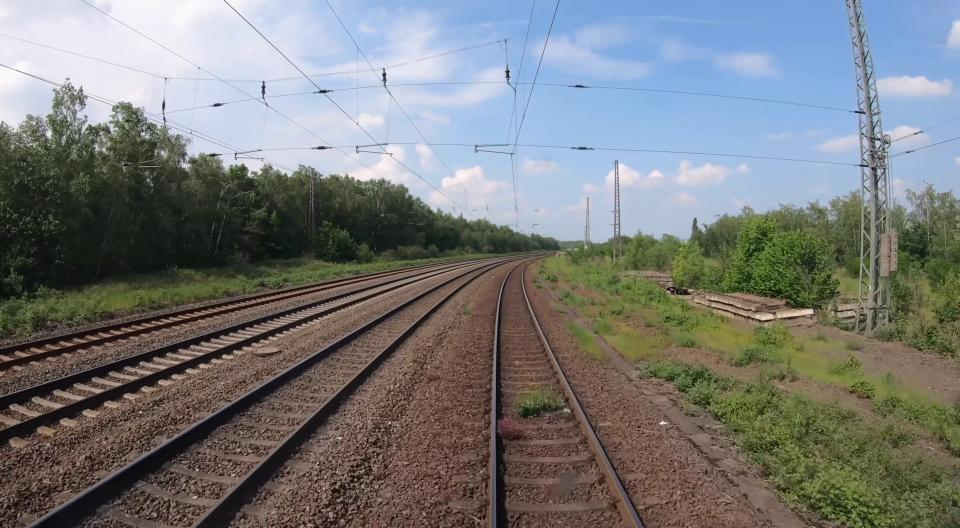Plant: (515, 385, 568, 417), (566, 322, 604, 360), (499, 418, 523, 440), (549, 301, 566, 314), (535, 283, 542, 289), (531, 278, 538, 283)
